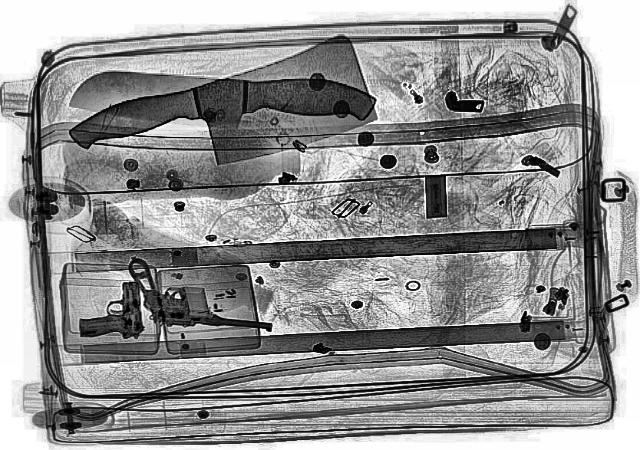Gun: (95, 256, 283, 354), (66, 278, 148, 344)
Knife: (42, 31, 408, 199), (66, 60, 386, 142)
